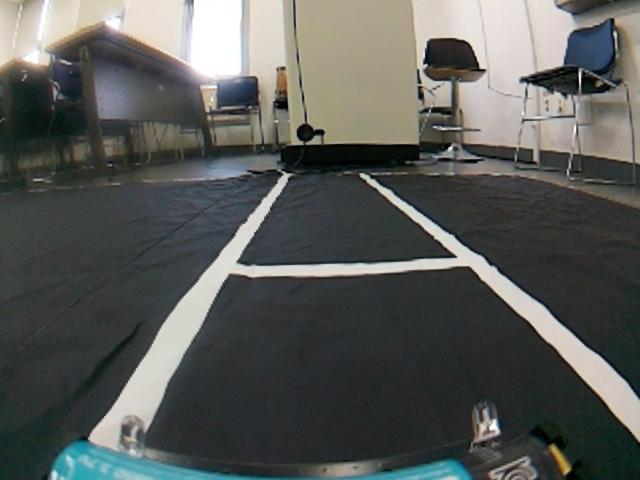straight: (0, 169, 639, 480)
